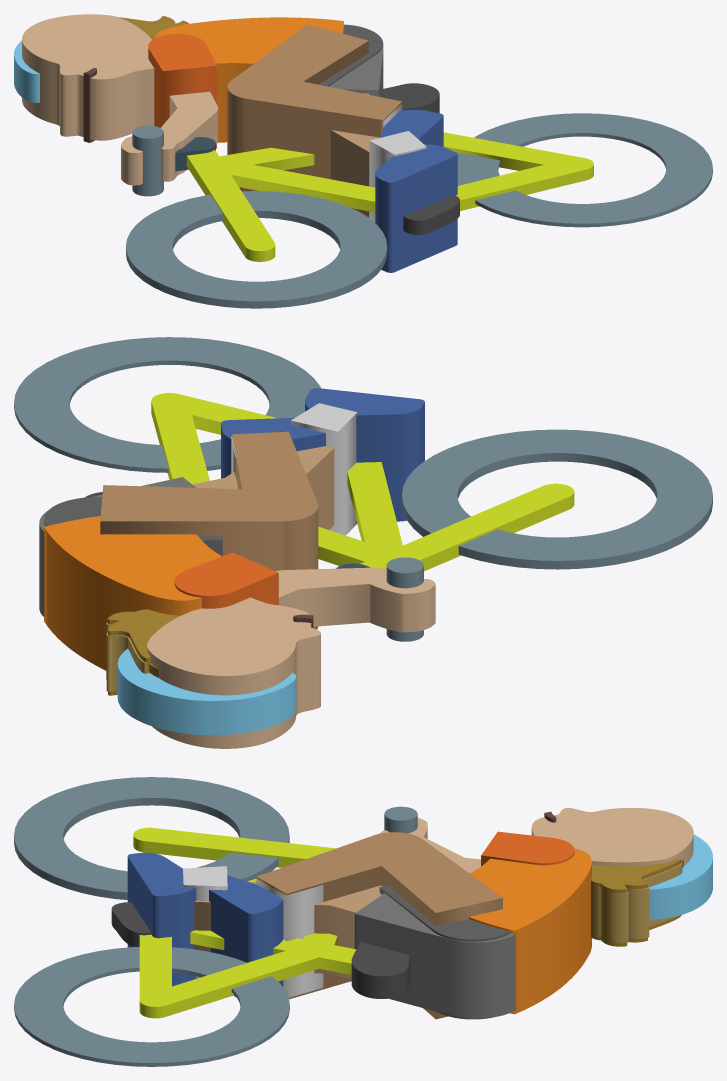
Rendered from emoji_u1f6b4_1f3fc.glb.
3 views of the same model, one above another, from view 1: azimuth 30°, elevation 25°; view 2: azimuth 150°, elevation 25°; view 3: azimuth 270°, elevation 25° (orthographic). The views are drawn at different scales.
Visible parts, largest first — view 1: emoji_u1f6b4_1f3fc; view 2: emoji_u1f6b4_1f3fc; view 3: emoji_u1f6b4_1f3fc.
Boxes of the visible parts, x1,y1,x2,y2 form: emoji_u1f6b4_1f3fc: (14, 14, 712, 308); emoji_u1f6b4_1f3fc: (14, 337, 712, 748); emoji_u1f6b4_1f3fc: (14, 777, 712, 1066).
Size of the model in its own units: 0.0321 by 0.0056 by 0.0334.
